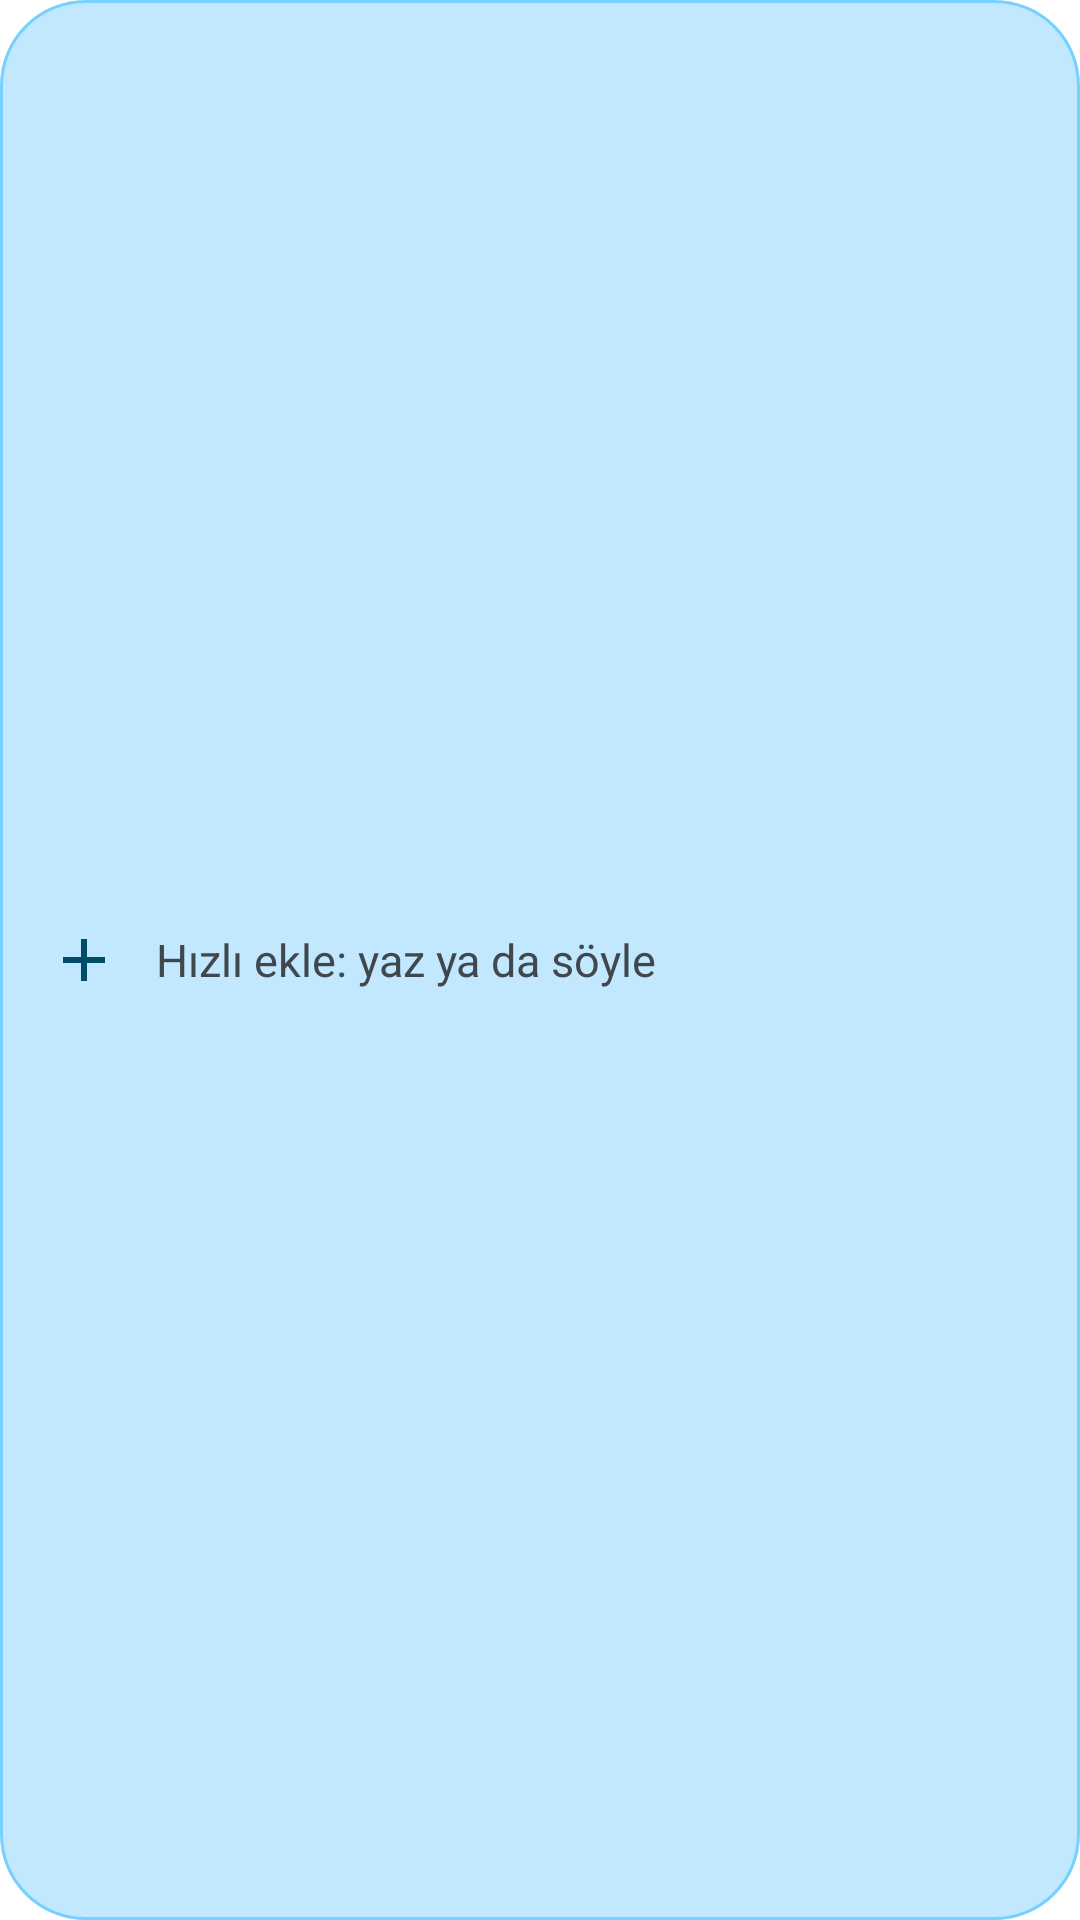

Where icons sit on this 1080px x 1920px app screen, as rect(x1, y1, x2, y2):
hizli ekle: rect(63, 939, 105, 981)
